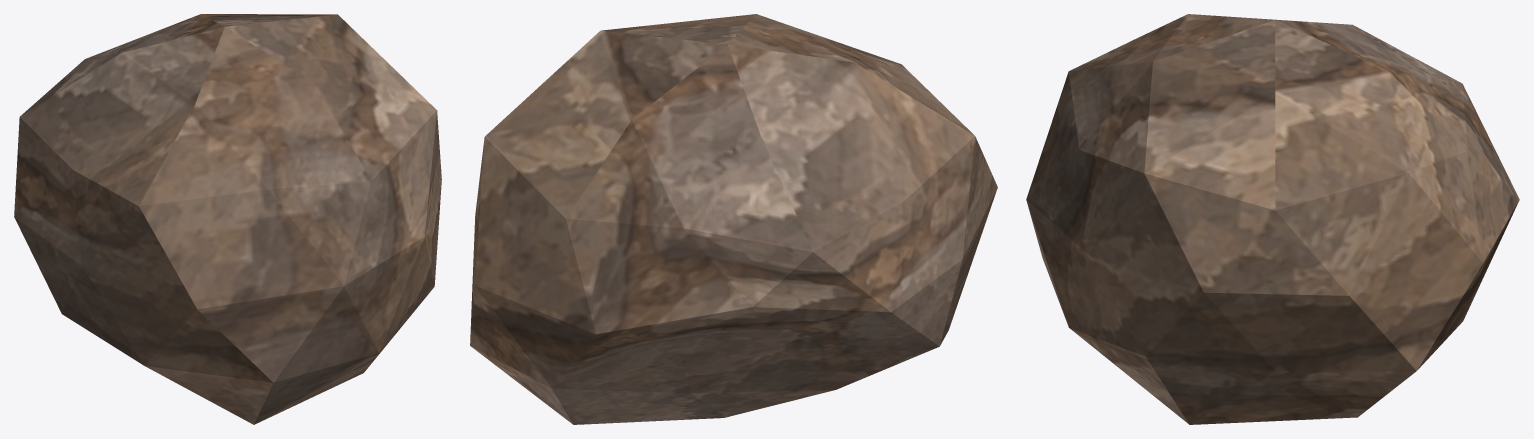
Rendered from rock-l-round_lod1.glb.
3 views of the same model, side by side, from view 1: azimuth 30°, elevation 25°; view 2: azimuth 150°, elevation 25°; view 3: azimuth 270°, elevation 25° (orthographic). The views are drawn at different scales.
Visible parts, largest first — view 1: rock-l-round; view 2: rock-l-round; view 3: rock-l-round.
Part boxes in pixels (x1,y1,x2,y2): rock-l-round: [14, 14, 441, 424]; rock-l-round: [470, 14, 997, 424]; rock-l-round: [1026, 14, 1519, 424].
Bounding box in the file's own units: 3 × 2.66 × 3.35.
Materials: 1 (1 with a texture image).
